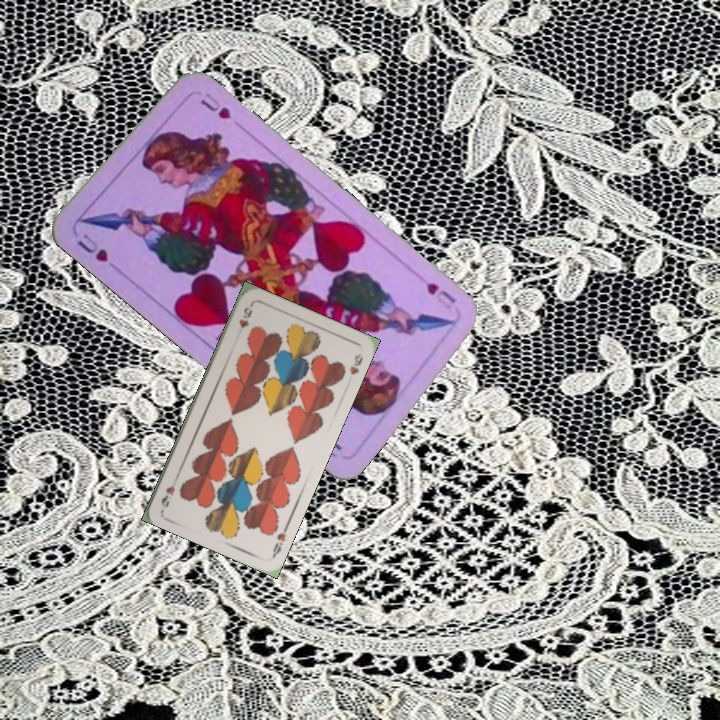H9: (268, 521, 291, 560), (234, 300, 256, 331)
HU: (73, 230, 111, 265), (421, 278, 459, 313)
